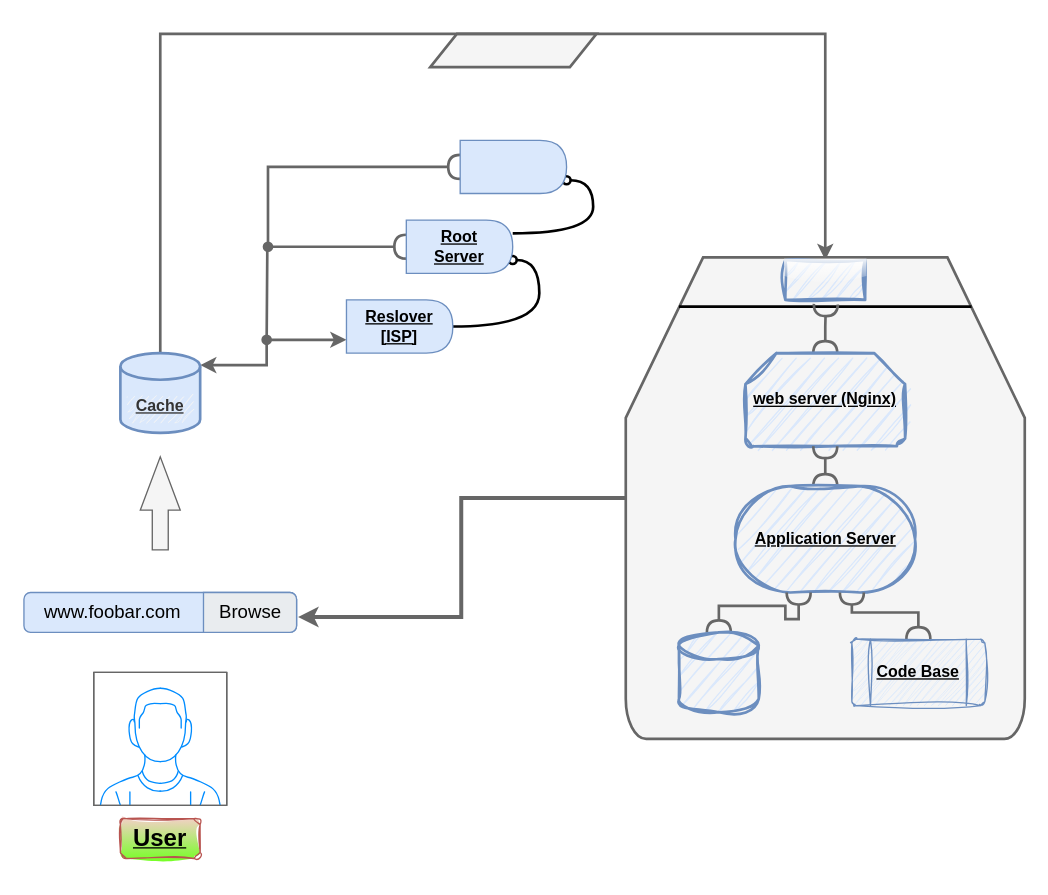
Some shapes in this 1048 by 895 pixel diagram are drawn without their labels. Each missing label, with the centre of its shape:
"MySQL" belongs at pixel 718 671.
"Request" belongs at pixel 512 50.
"Server" belongs at pixel 824 279.
"TLD Server" belongs at pixel 513 166.
